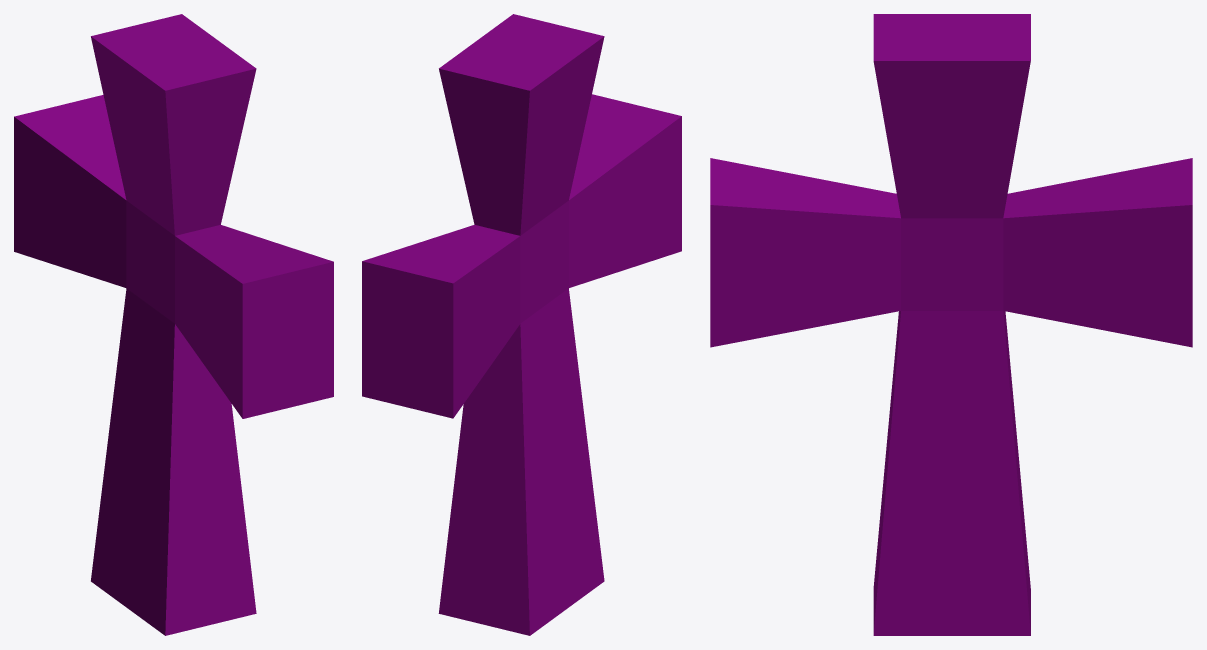
File: BetterCross.glb
3 views of the same model, side by side, from view 1: azimuth 30°, elevation 25°; view 2: azimuth 150°, elevation 25°; view 3: azimuth 270°, elevation 25° (orthographic). The views are drawn at different scales.
Visible parts, largest first — view 1: Cube; view 2: Cube; view 3: Cube.
Boxes of the visible parts, x1=… form: Cube: x1=14, y1=14, x2=333, y2=635; Cube: x1=362, y1=14, x2=681, y2=635; Cube: x1=710, y1=14, x2=1192, y2=635.
Size of the model in its own units: 1.41 by 8.06 by 6.13.
Materials: 1 (1 with a texture image).
